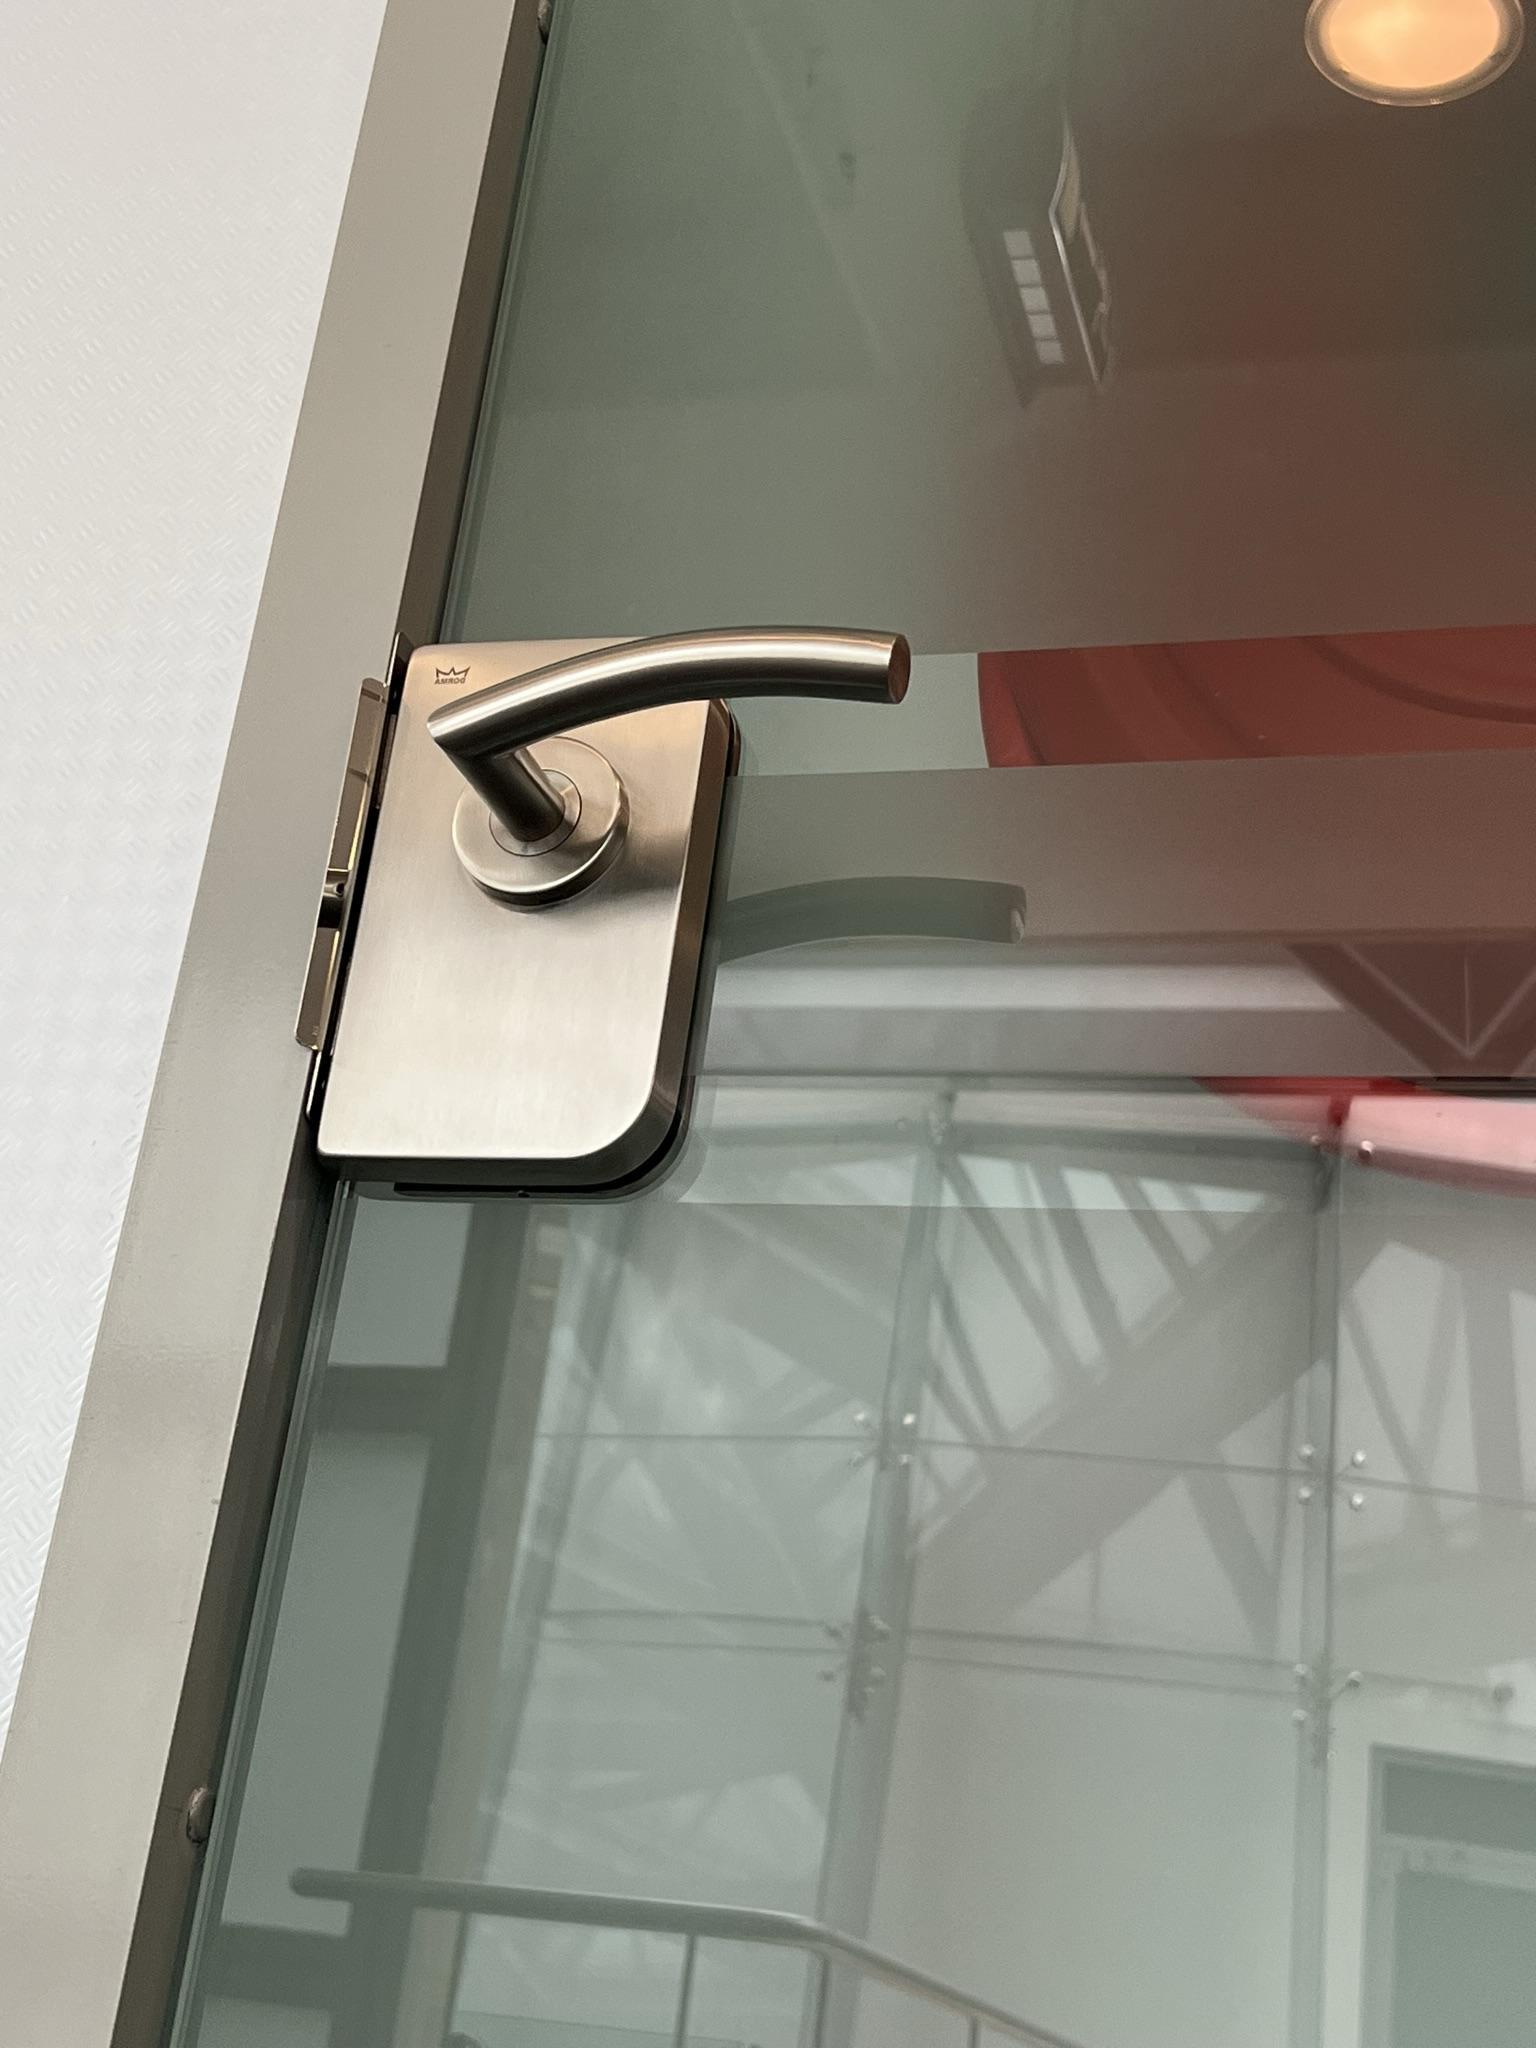handle: (287, 590, 920, 1214)
